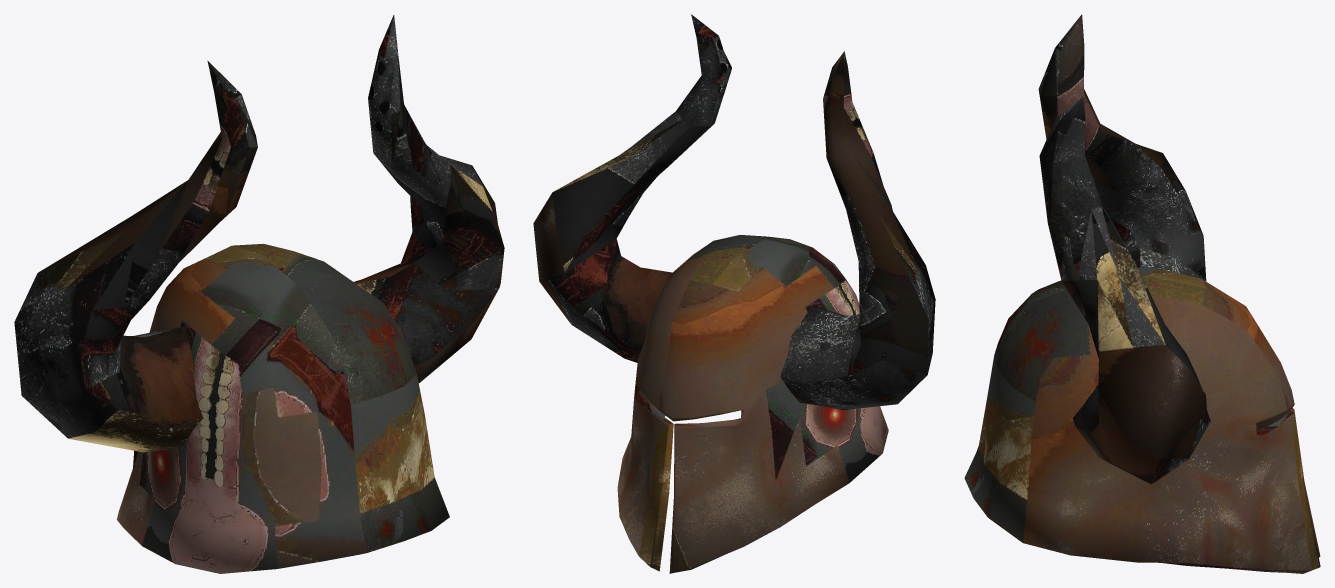
3 renders of one model, left to right at view 1: azimuth 30°, elevation 25°; view 2: azimuth 150°, elevation 25°; view 3: azimuth 270°, elevation 25°, orthographic. The views are drawn at different scales.
Parts seen in each view (by area): view 1: mesh_0; view 2: mesh_0; view 3: mesh_0.
Part boxes in pixels (x1,y1,x2,y2): mesh_0: [14, 15, 504, 573]; mesh_0: [533, 14, 935, 573]; mesh_0: [964, 14, 1320, 573].
Bounding box in the file's own units: 19.45 × 21.91 × 13.79.
1 material, 1 textured.
